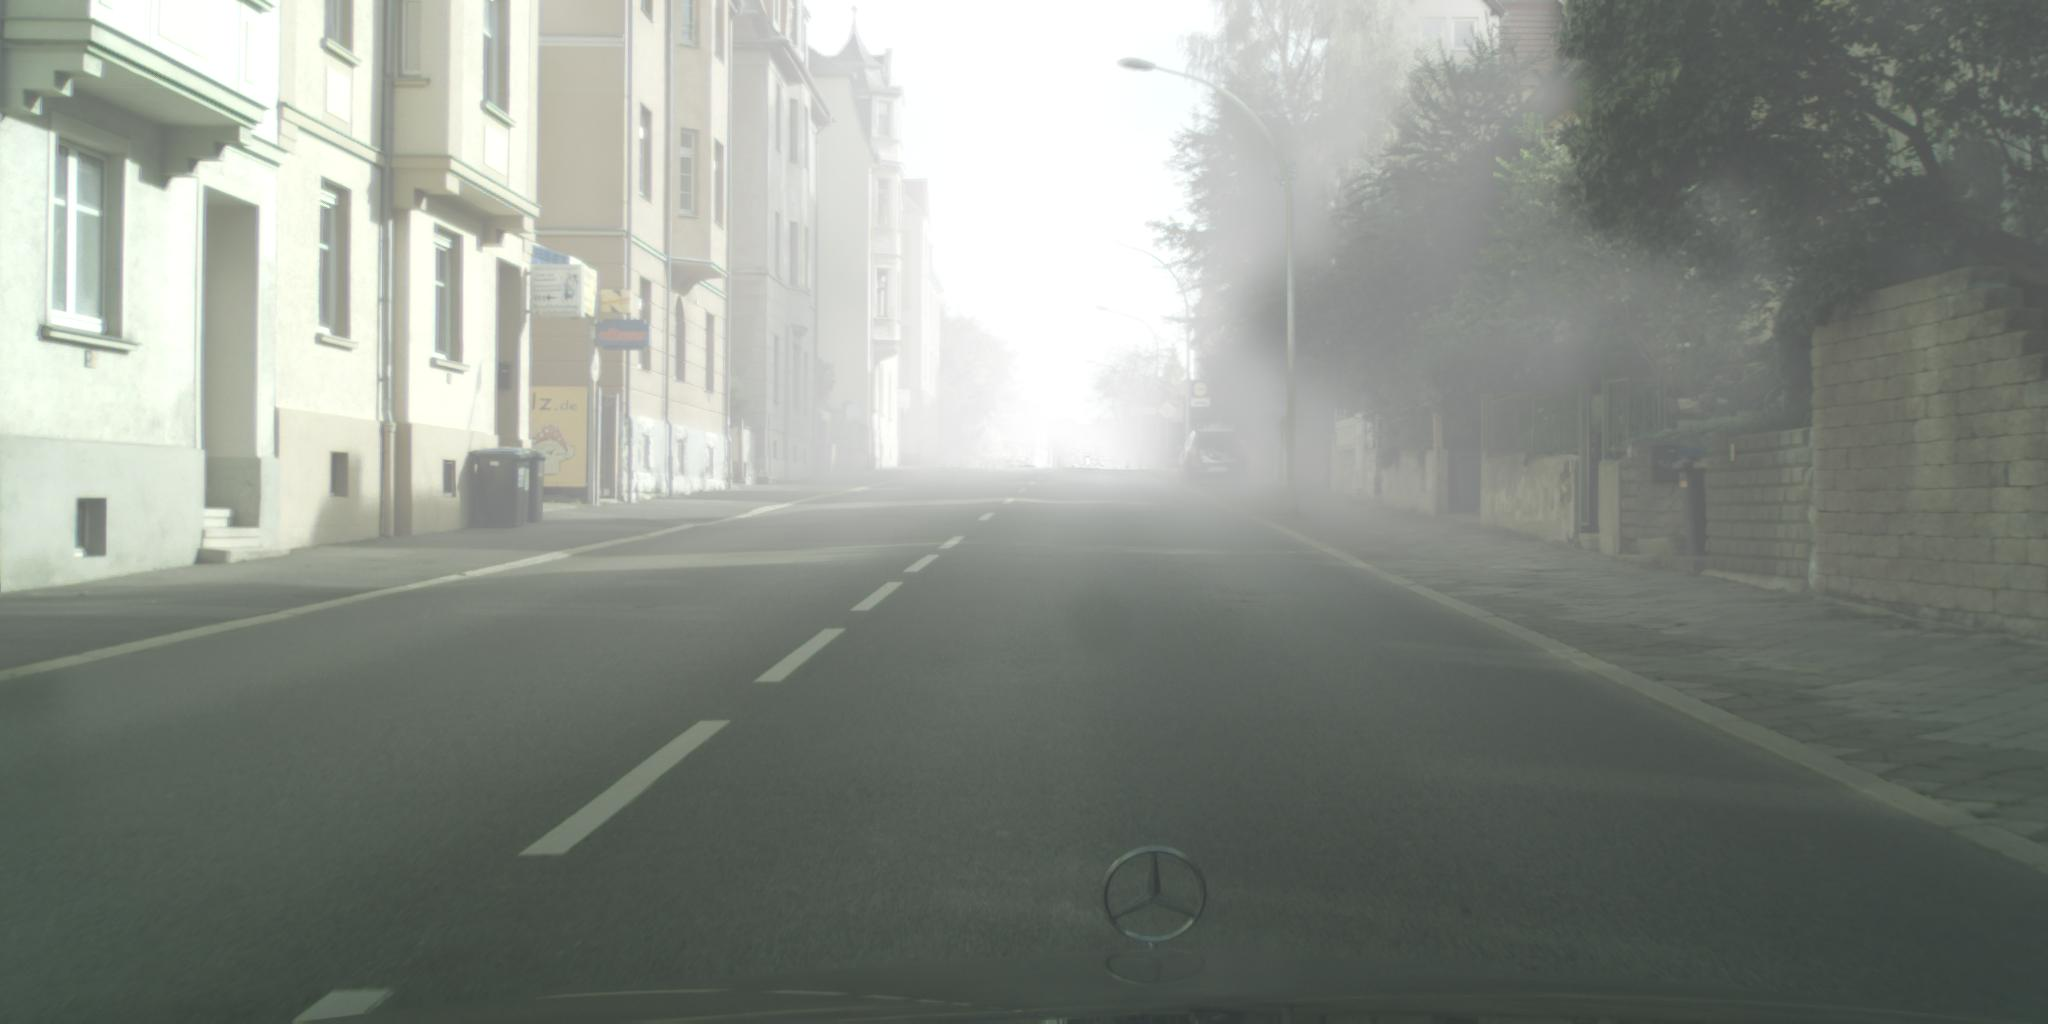car: (1179, 415, 1251, 488)
